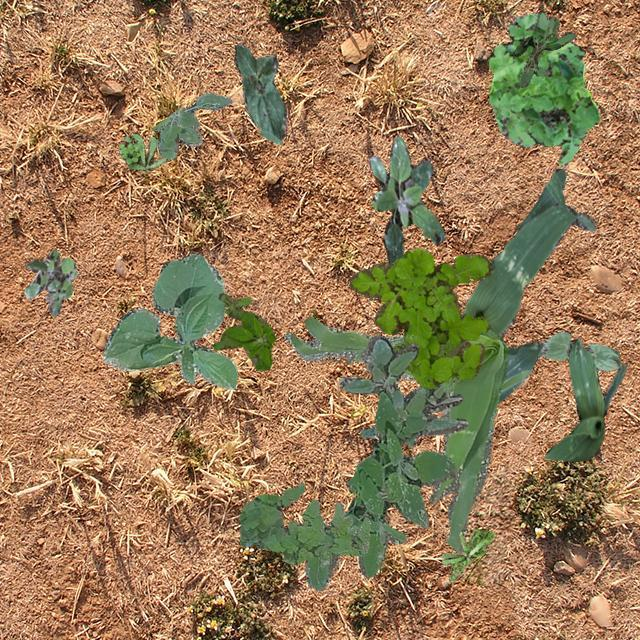crop: (461, 168, 595, 402), (102, 252, 236, 388), (544, 338, 626, 460), (232, 44, 286, 144), (542, 330, 620, 370)
weed: (284, 316, 506, 552), (304, 388, 458, 590), (348, 246, 490, 388), (488, 12, 600, 166), (338, 334, 466, 446), (238, 482, 368, 564), (368, 136, 443, 264), (150, 92, 230, 158), (212, 292, 274, 370), (512, 10, 574, 86), (22, 248, 76, 316), (439, 528, 494, 580), (118, 130, 166, 170)
